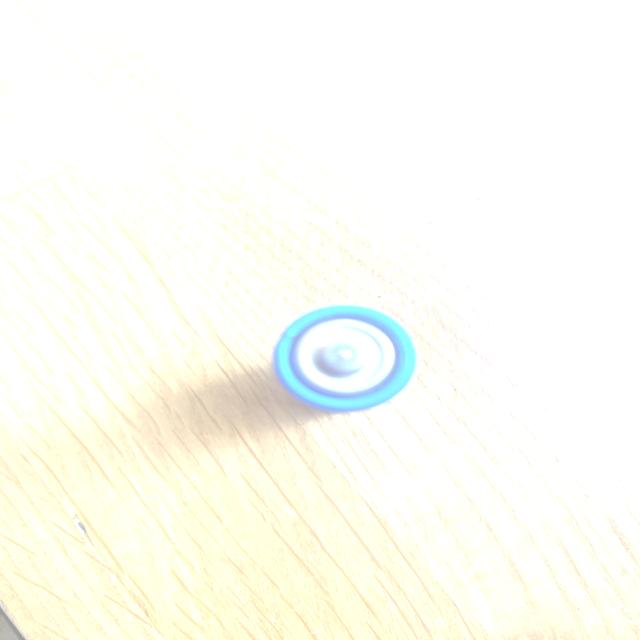AA: (272, 302, 419, 412)
